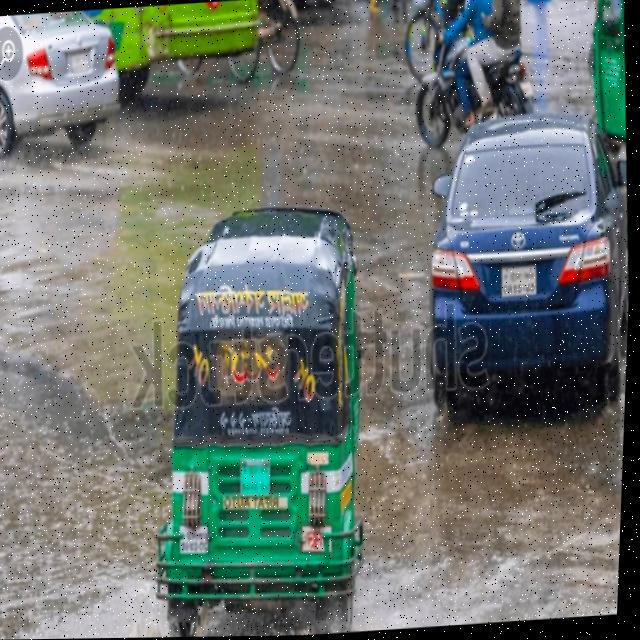cng: (165, 182, 417, 638)
